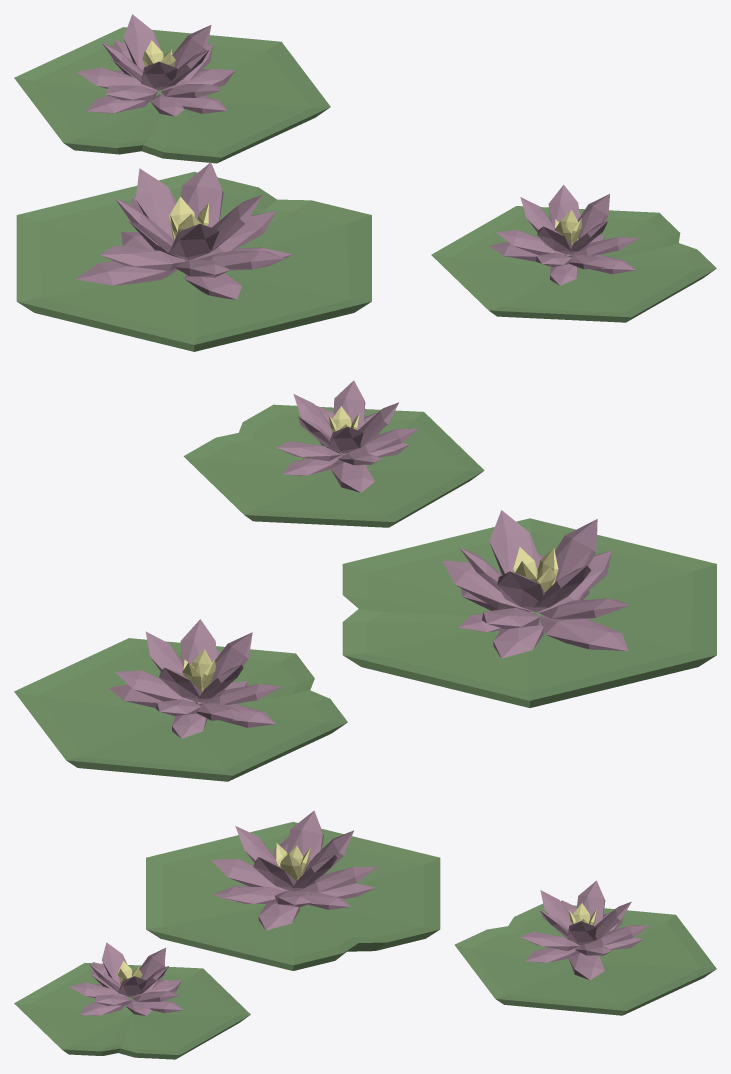
The model's file is Water Lily Unharvested.fbx.
3 views of the same model, one above another, from view 1: azimuth 30°, elevation 25°; view 2: azimuth 150°, elevation 25°; view 3: azimuth 270°, elevation 25° (orthographic). The views are drawn at different scales.
Parts seen in each view (by area): view 1: water_lily; view 2: water_lily; view 3: water_lily.
Part boxes in pixels (<box>): water_lily: <box>14,14,716,351</box>; water_lily: <box>14,380,716,781</box>; water_lily: <box>14,810,716,1059</box>.
Size of the model in its own units: 1.07 by 0.1473 by 1.36.
